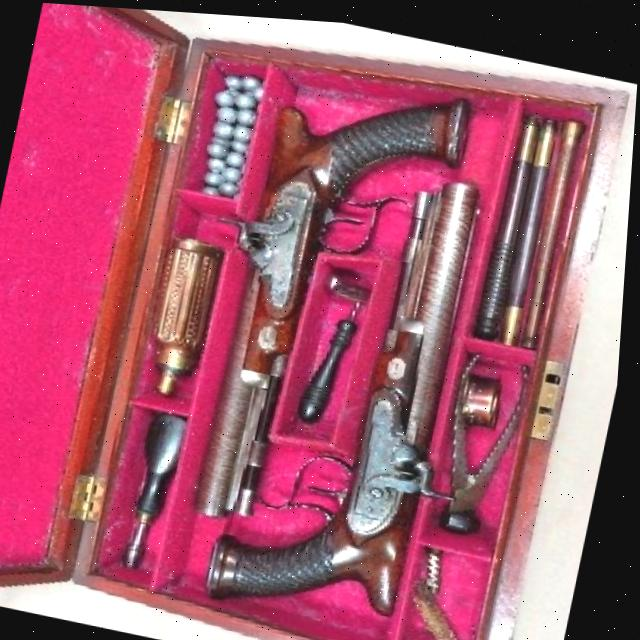pistol: (187, 55, 473, 551), (208, 139, 488, 629)
